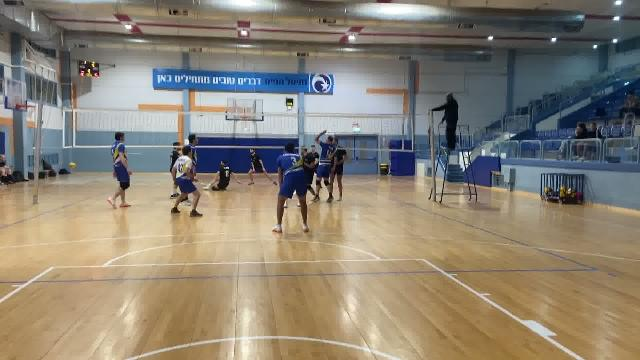ball: (66, 159, 77, 169)
